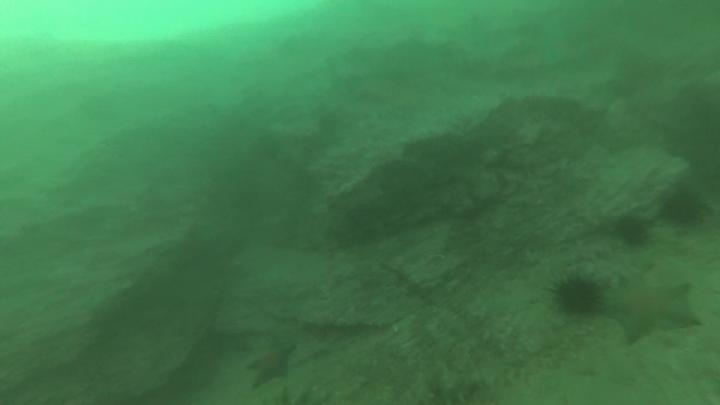echinus: (549, 271, 605, 319), (659, 186, 708, 229), (613, 212, 652, 250)
holothurian: (424, 351, 530, 405), (539, 321, 603, 365)
starfish: (602, 273, 705, 346), (242, 336, 299, 390)
